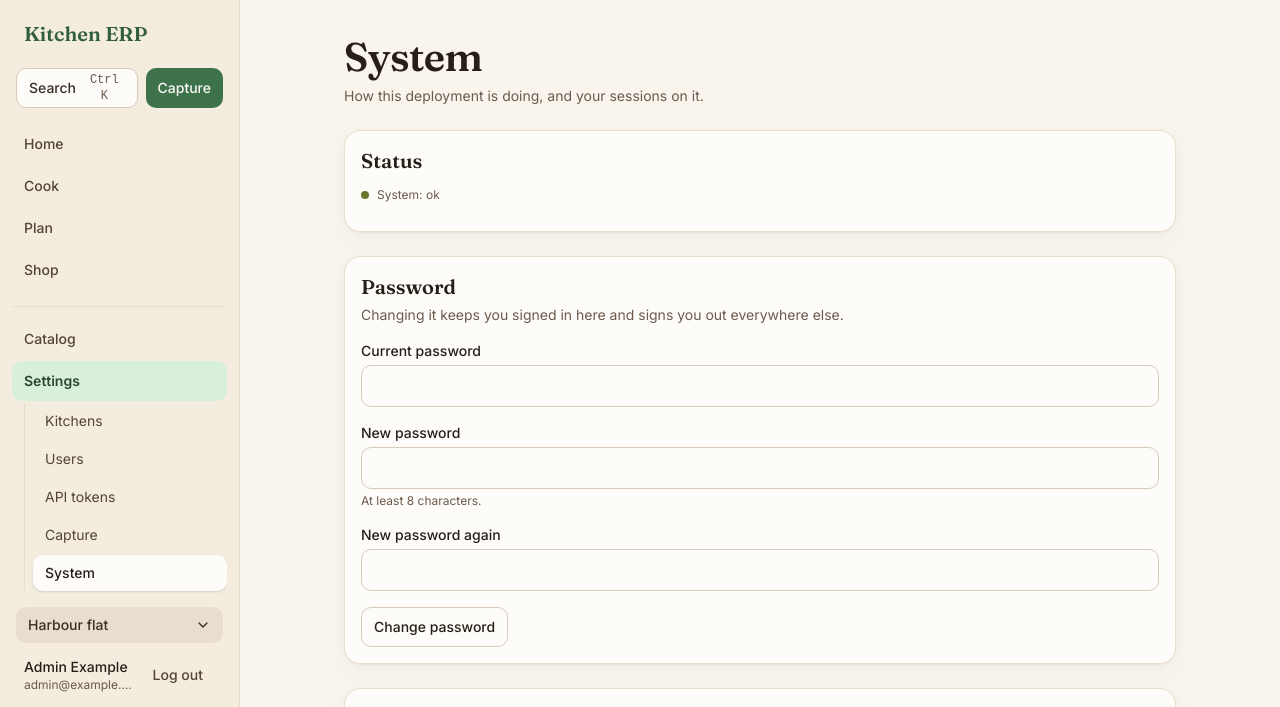
it: palette actions for Plan (UI-2.9, UI-2.4) › switches the kitchen from the palette without leaving the page
Check: the heading "System" is shown, box [344,32,482,81]
Check: the button named "Kitchen: Harbour flat" is shown, box [16,607,223,643]
Step 1. Type keys "{Control>}k{/Control}"
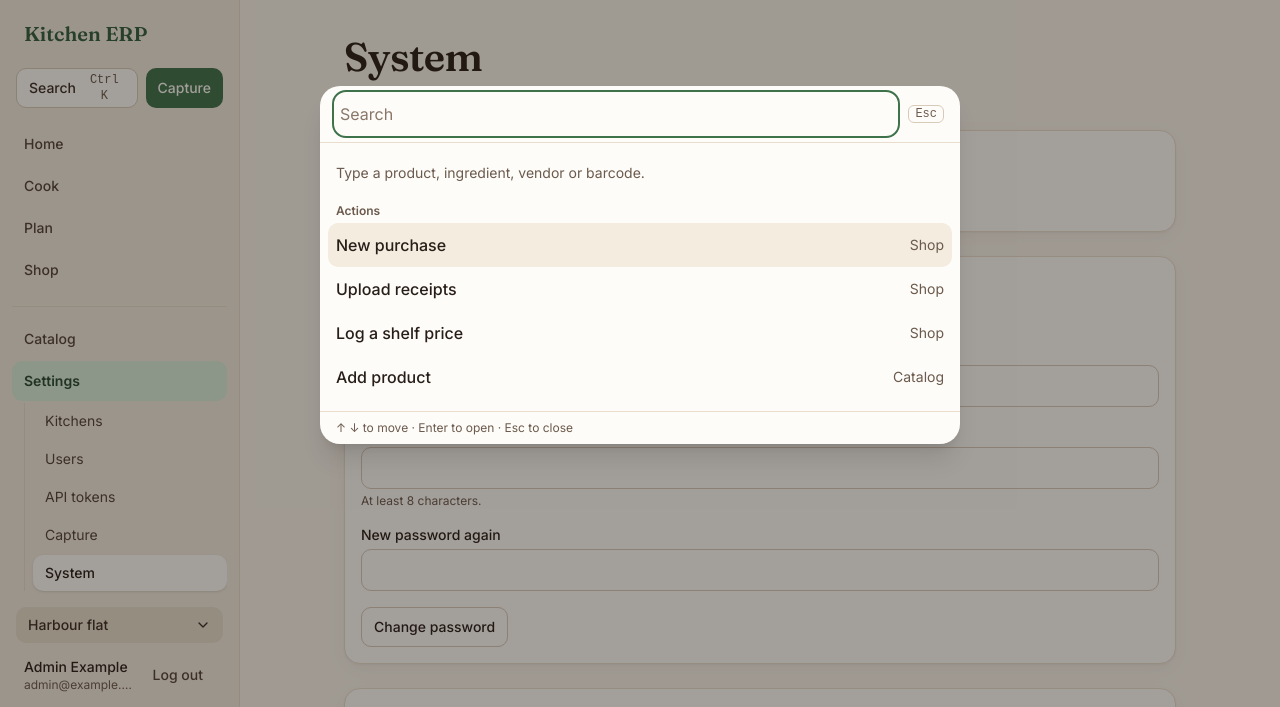
Step 2. Type "switch" into the dropdown → (616,114), box [336,94,896,134]
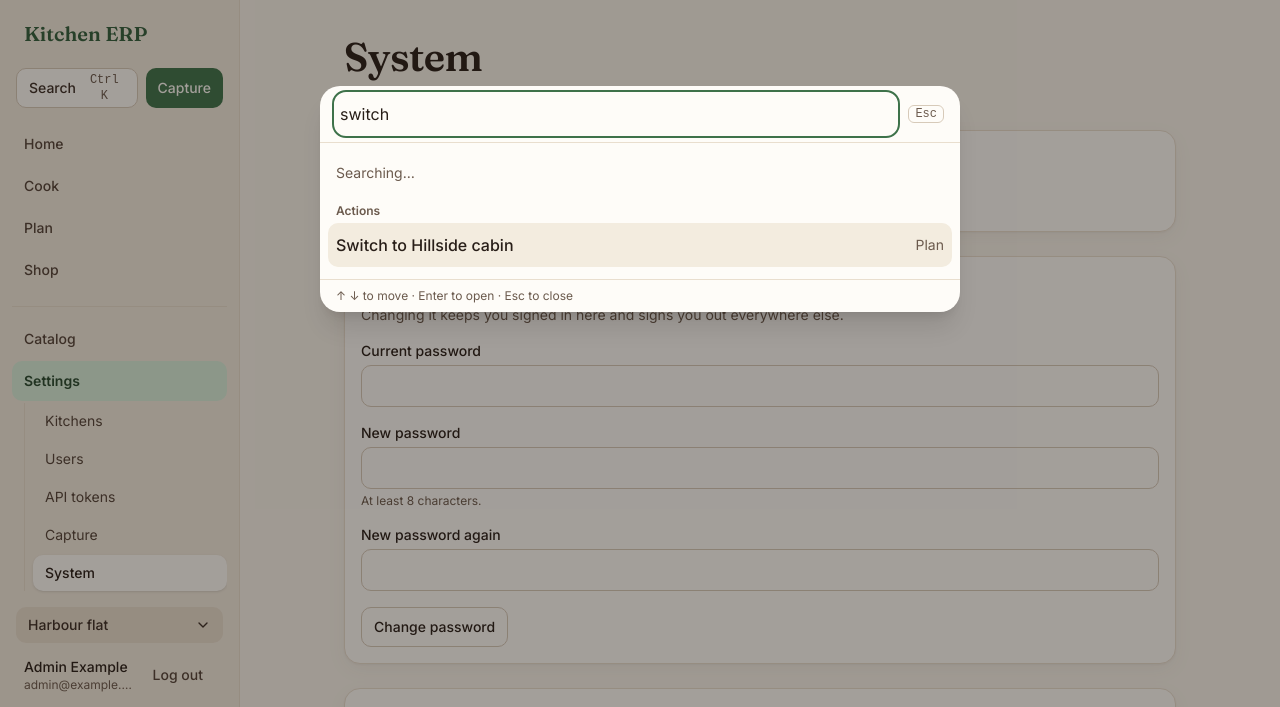
Check: the option "Switch to Hillside cabin Plan" is shown
Step 3. Click the option "Switch to Hillside cabin Plan" → (425,245), box [328,223,952,267]
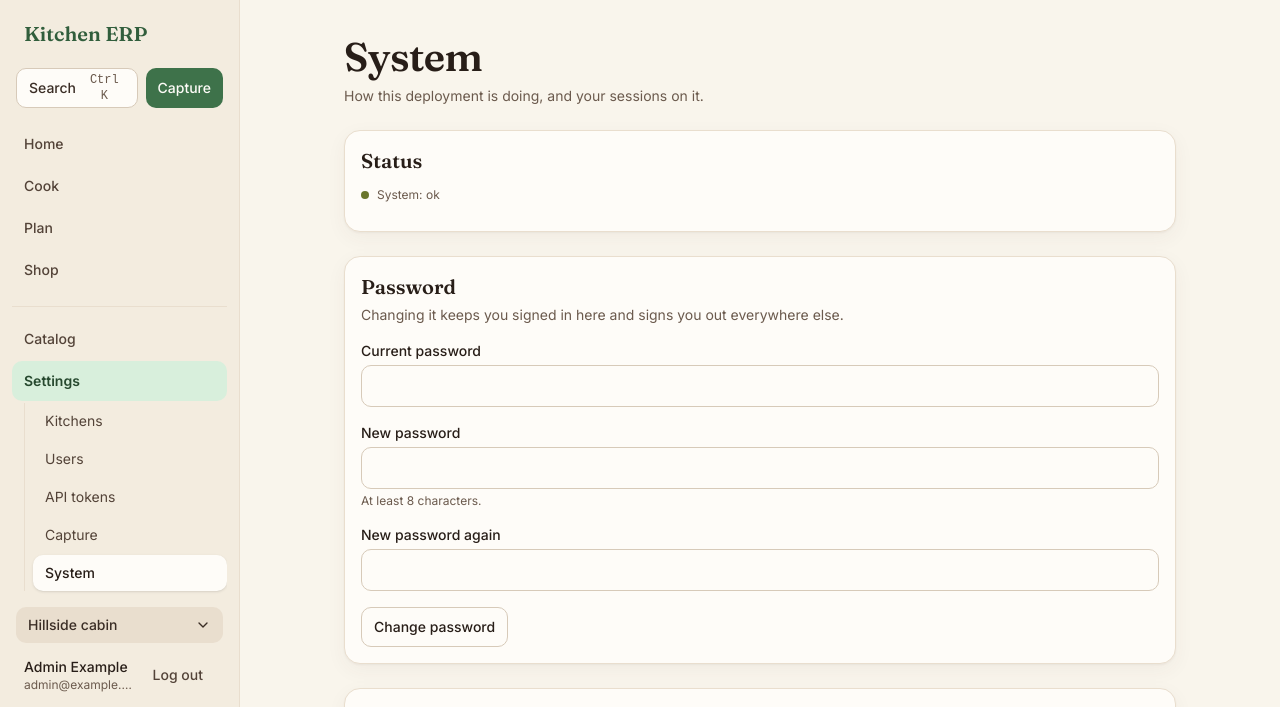
Check: the heading "System" is shown, box [344,32,482,81]
Check: the dialog is gone
